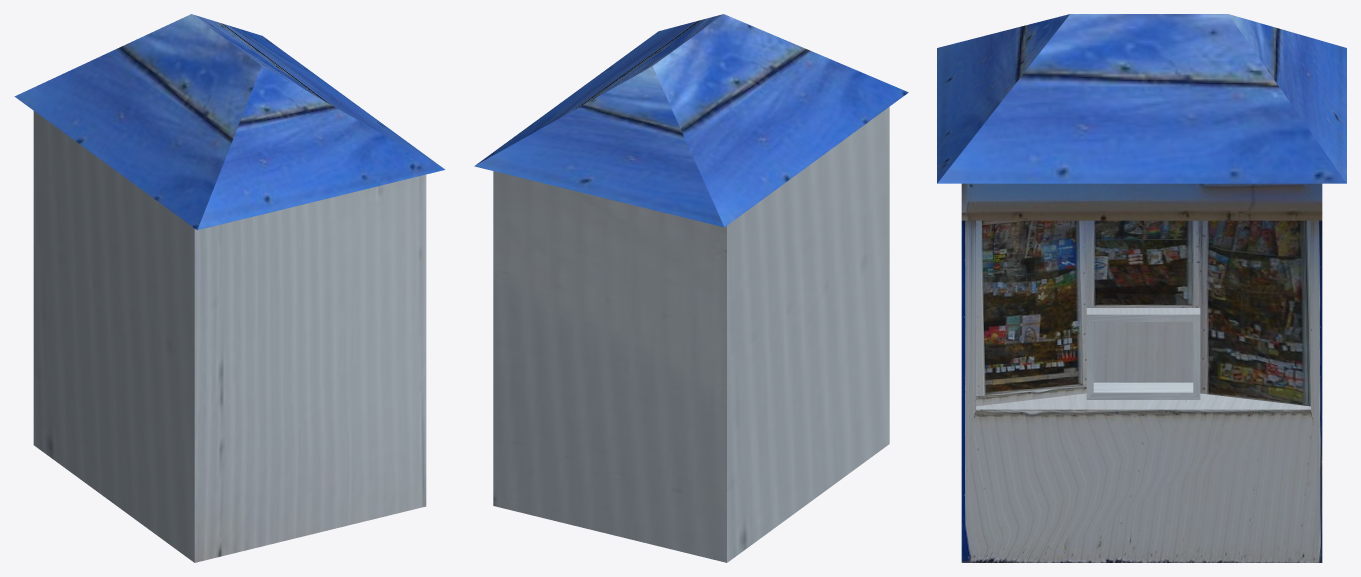
The model's file is Kiosk.fbx.
The picture shows the model from 3 angles, left to right: view 1: azimuth 30°, elevation 25°; view 2: azimuth 150°, elevation 25°; view 3: azimuth 270°, elevation 25°; orthographic projection. The views are drawn at different scales.
Visible parts, largest first — view 1: Cube, Cube.001; view 2: Cube, Cube.001; view 3: Cube, Cube.001.
Part boxes in pixels (x1,y1,x2,y2): Cube: (33,111,426,562); Cube.001: (14,14,445,230); Cube: (493,107,889,562); Cube.001: (474,14,908,227); Cube: (961,183,1322,562); Cube.001: (937,14,1346,183).
Bounding box in the file's own units: 595 × 992 × 759.
